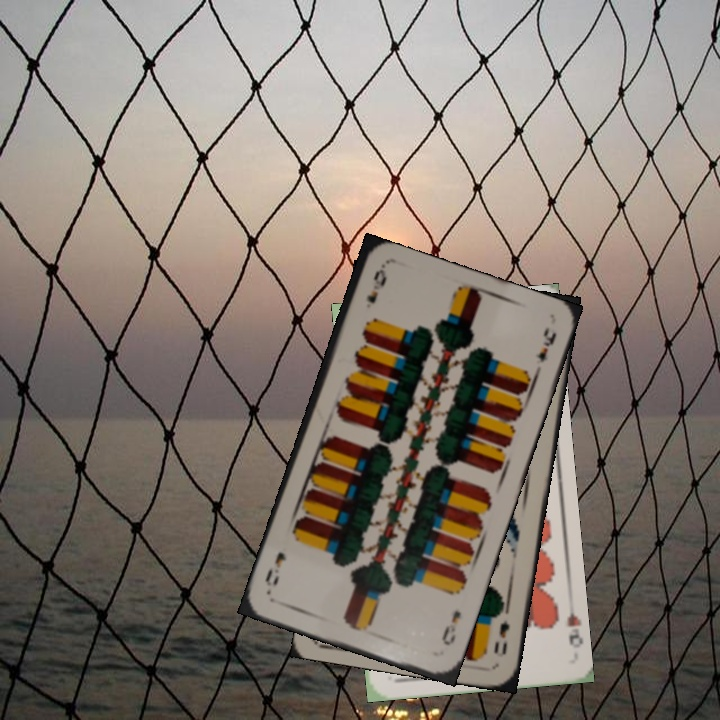E9: (362, 265, 389, 306), (438, 606, 464, 648)
EO: (489, 604, 513, 657)
H9: (562, 598, 583, 648)
